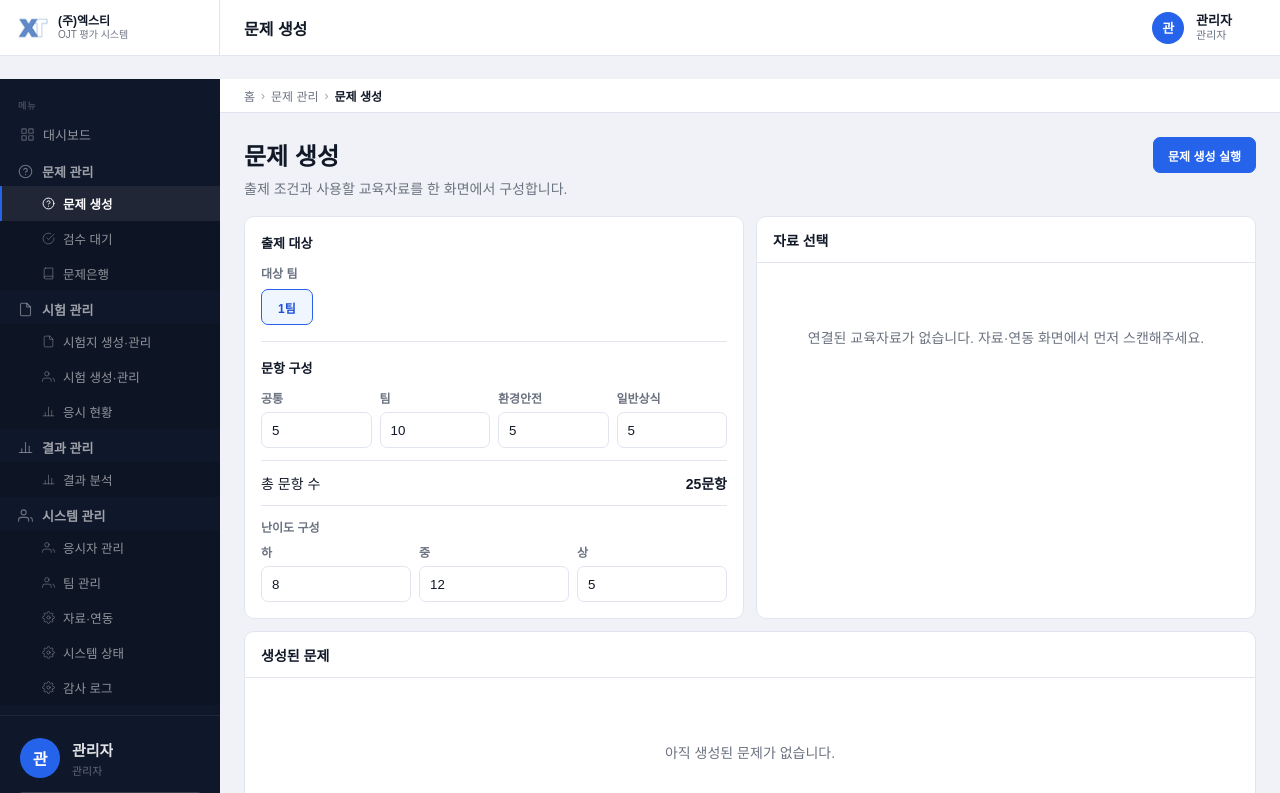
Test: planned admin domain routes › shows the questions just generated in the "생성된 문제" panel
Expected: the text "아직 생성된 문제가 없습니다." is shown, [665,745,835,761]
Click the button "문제 생성 실행" at (1205, 155), box [1153,137,1256,173]
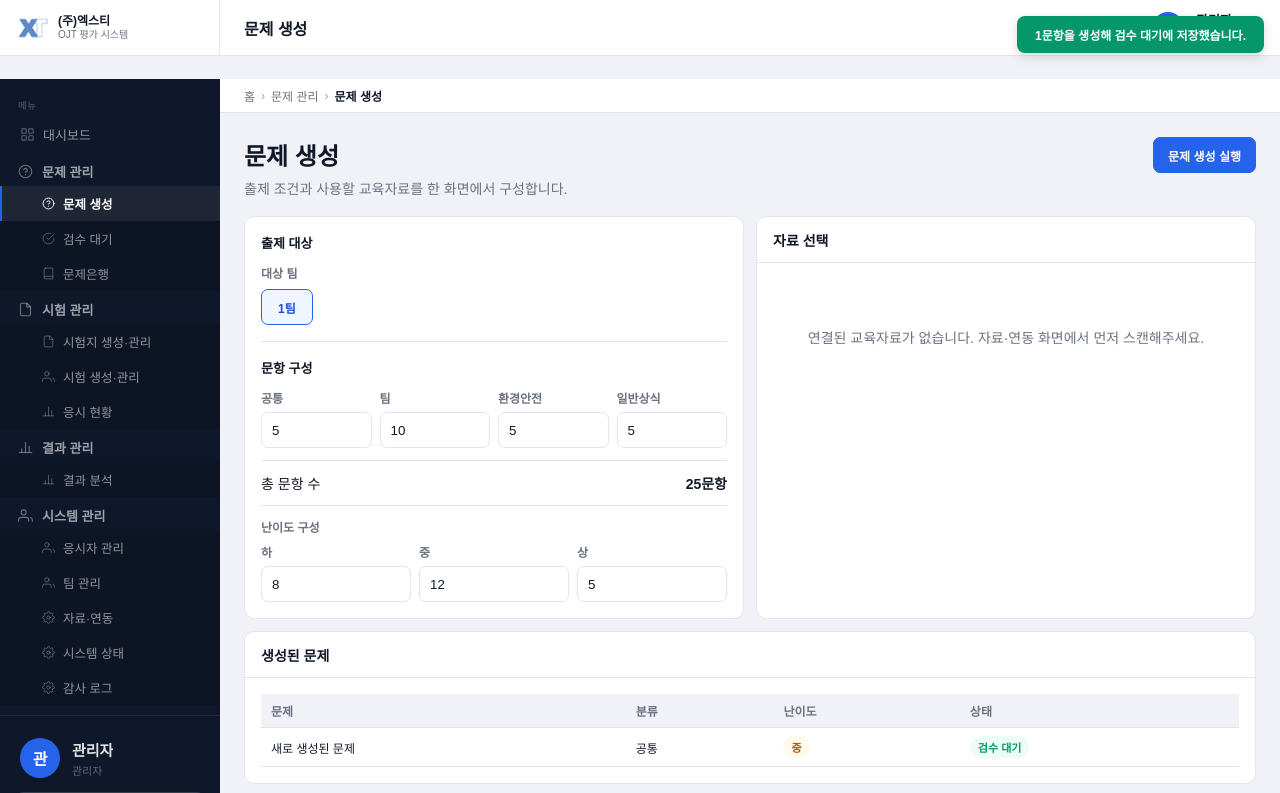
Expected: the text "검수 대기" is shown, [970,736,1029,758]
